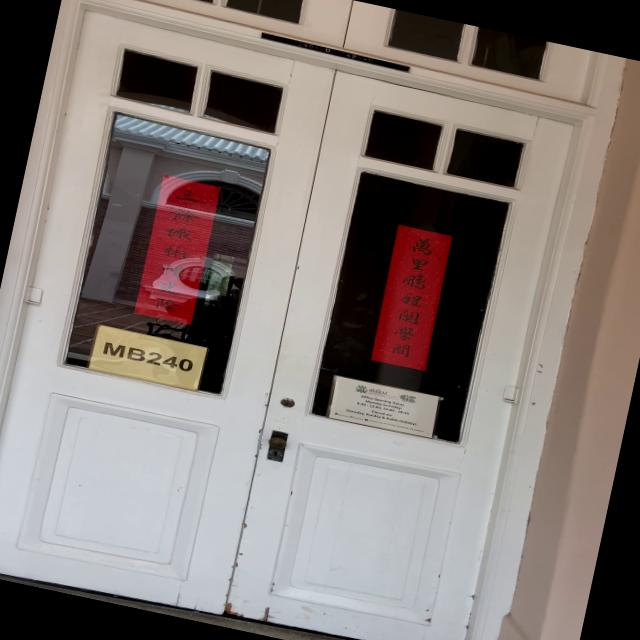room240: (87, 323, 209, 393)
